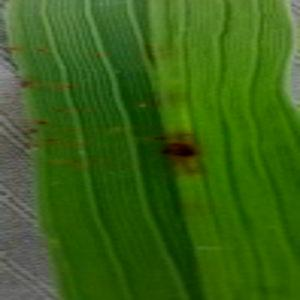0 BrownSpot: (156, 136, 200, 163), (16, 74, 36, 93), (151, 132, 169, 144), (68, 156, 85, 168), (36, 117, 51, 128), (45, 135, 59, 145), (9, 44, 20, 55), (36, 46, 48, 56), (66, 125, 78, 135), (63, 82, 76, 91), (55, 107, 66, 114)
